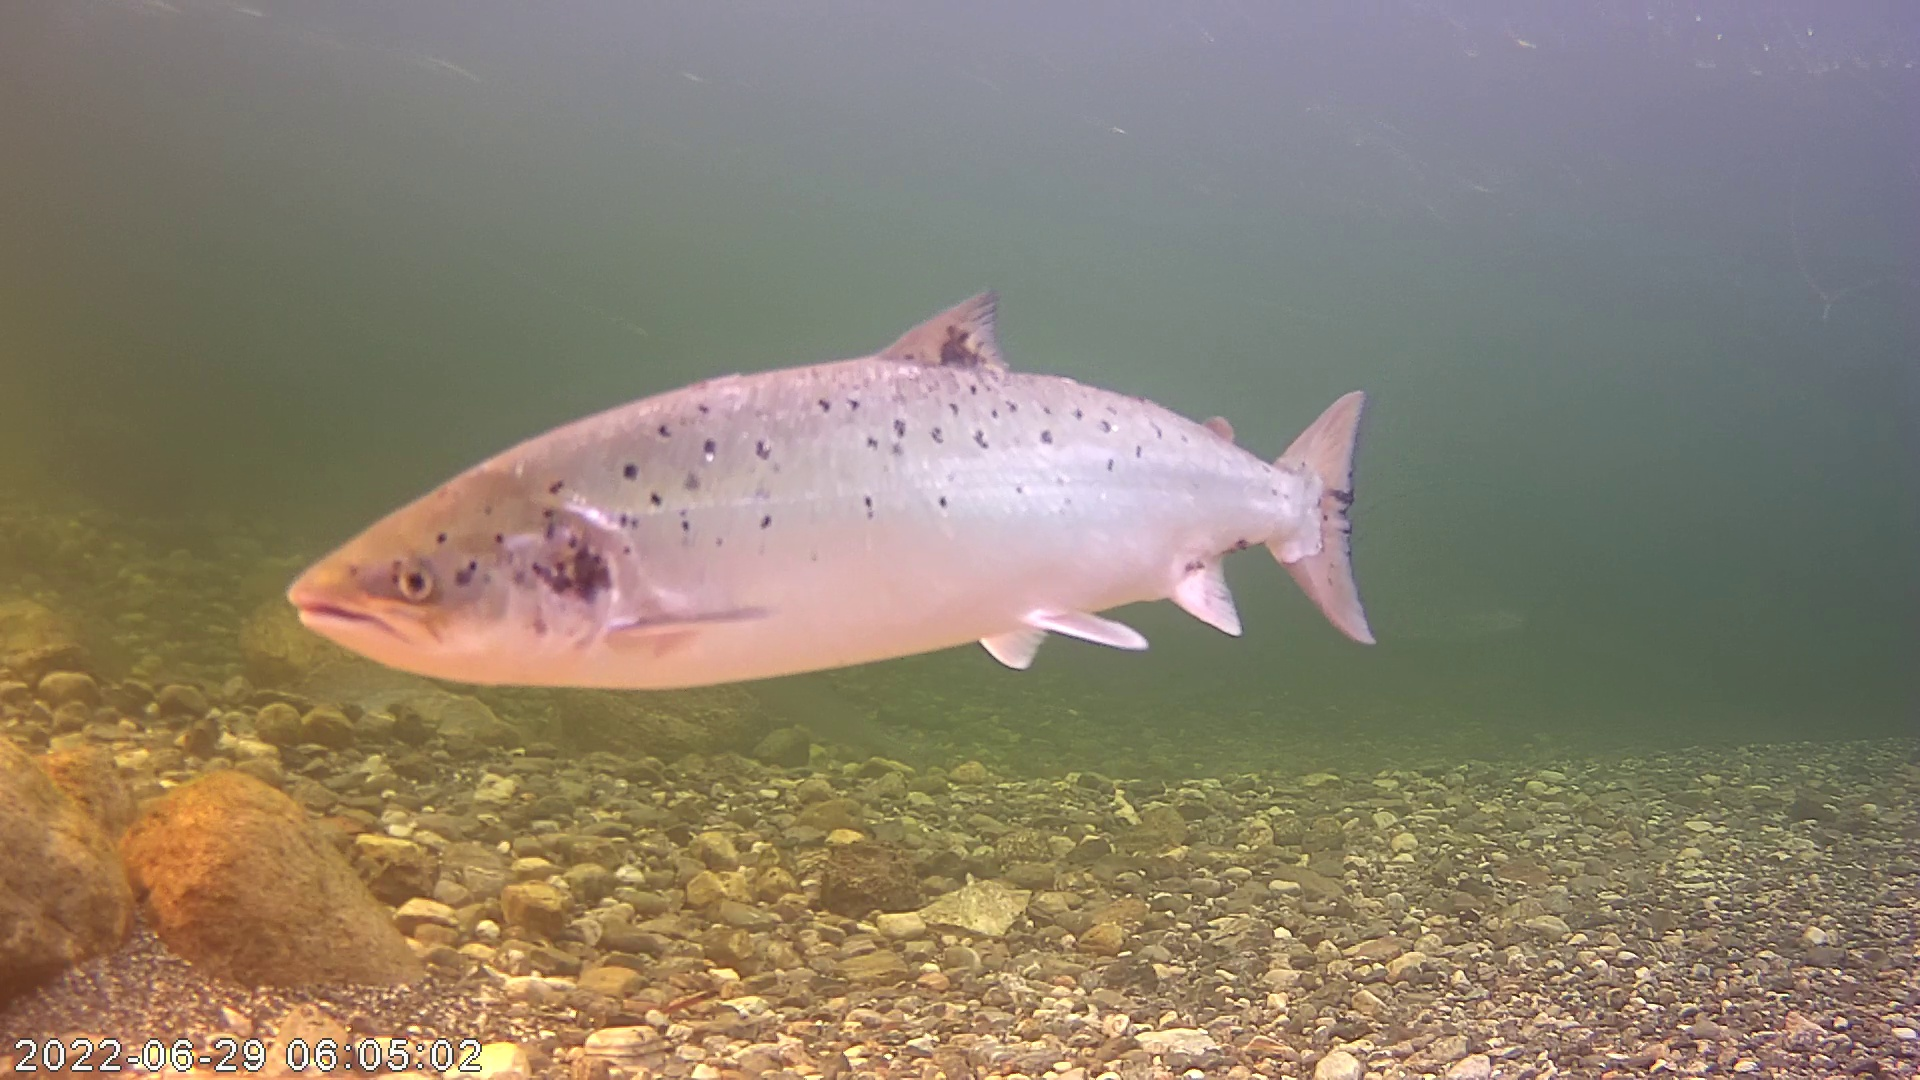salmon: (272, 284, 1378, 694)
